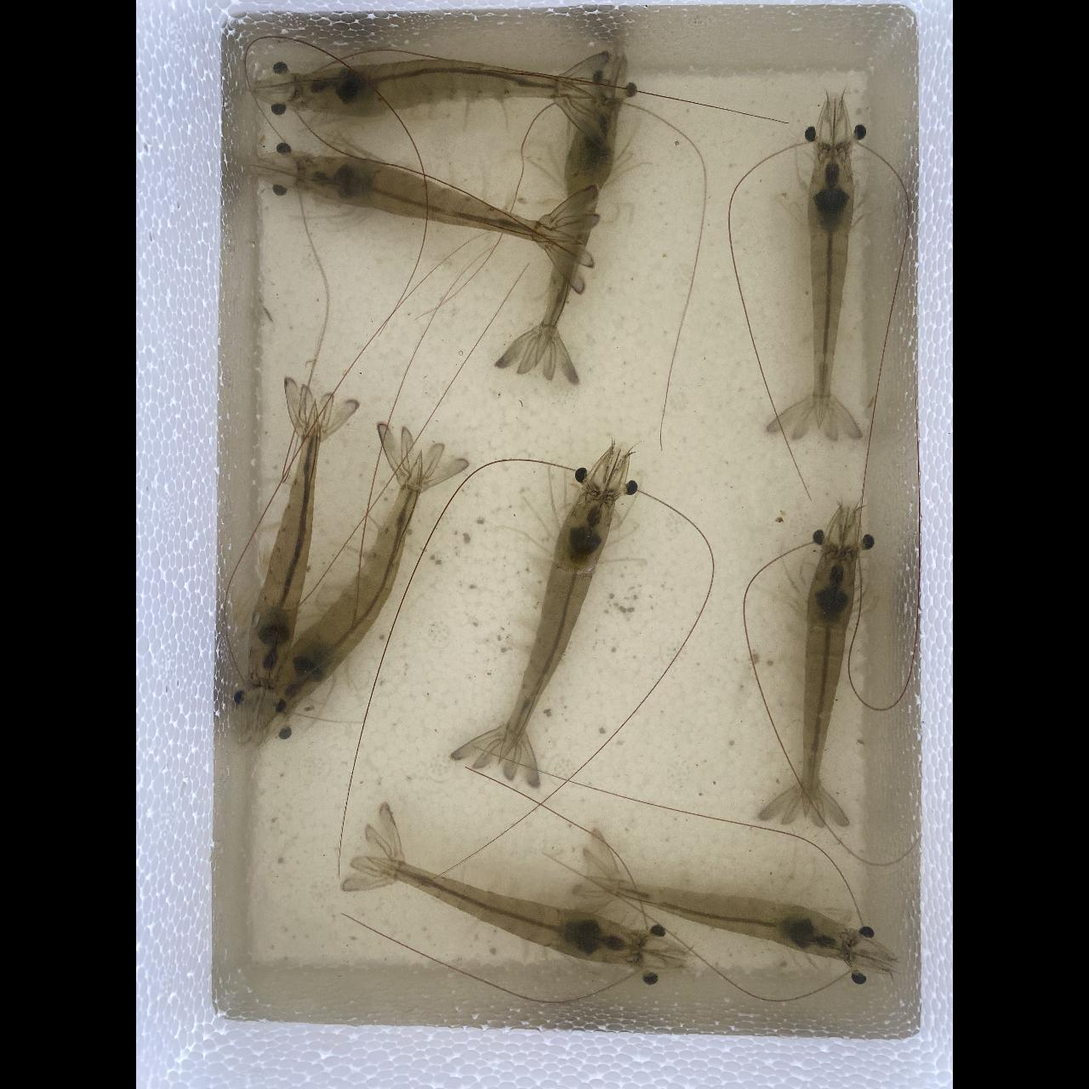top_shrimp: (271, 463, 422, 703), (500, 492, 613, 759), (368, 859, 641, 965), (299, 158, 570, 255), (540, 103, 617, 372), (590, 881, 851, 960), (250, 410, 318, 689), (296, 63, 594, 114), (801, 551, 856, 807), (810, 148, 852, 422)
